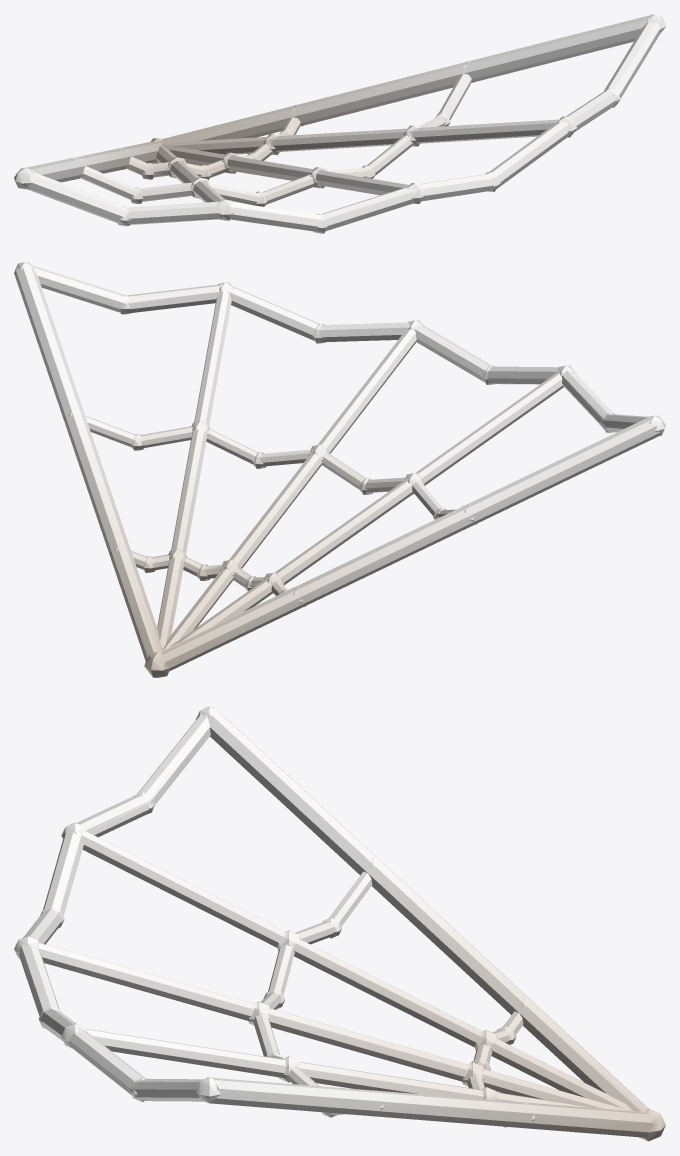
The model's file is web_corner_small.glb.
The picture shows the model from 3 angles, top to bottom: view 1: azimuth 30°, elevation 25°; view 2: azimuth 150°, elevation 25°; view 3: azimuth 270°, elevation 25°; orthographic projection. The views are drawn at different scales.
Parts seen in each view (by area): view 1: web_corner_small; view 2: web_corner_small; view 3: web_corner_small.
Part boxes in pixels (box(x1,y1,x2,y2)): web_corner_small: box(14, 14, 665, 233); web_corner_small: box(14, 262, 665, 677); web_corner_small: box(14, 706, 665, 1141).
Size of the model in its own units: 1.68 by 0.5085 by 1.21.
Materials: 1 (1 with a texture image).
